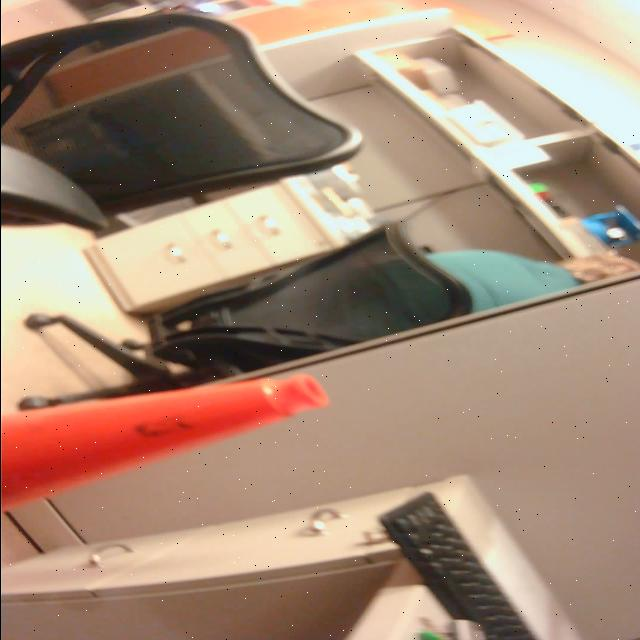traffic cone: (1, 369, 338, 521)
